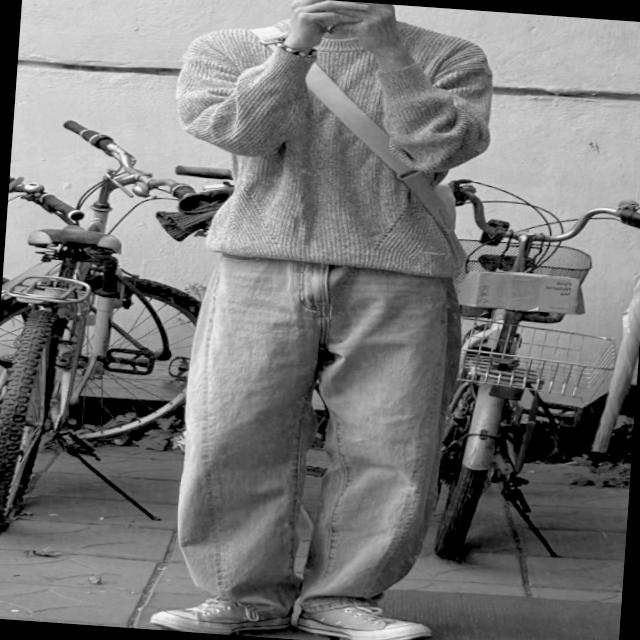denimpants: (174, 252, 467, 622)
sweater: (163, 0, 499, 283)
